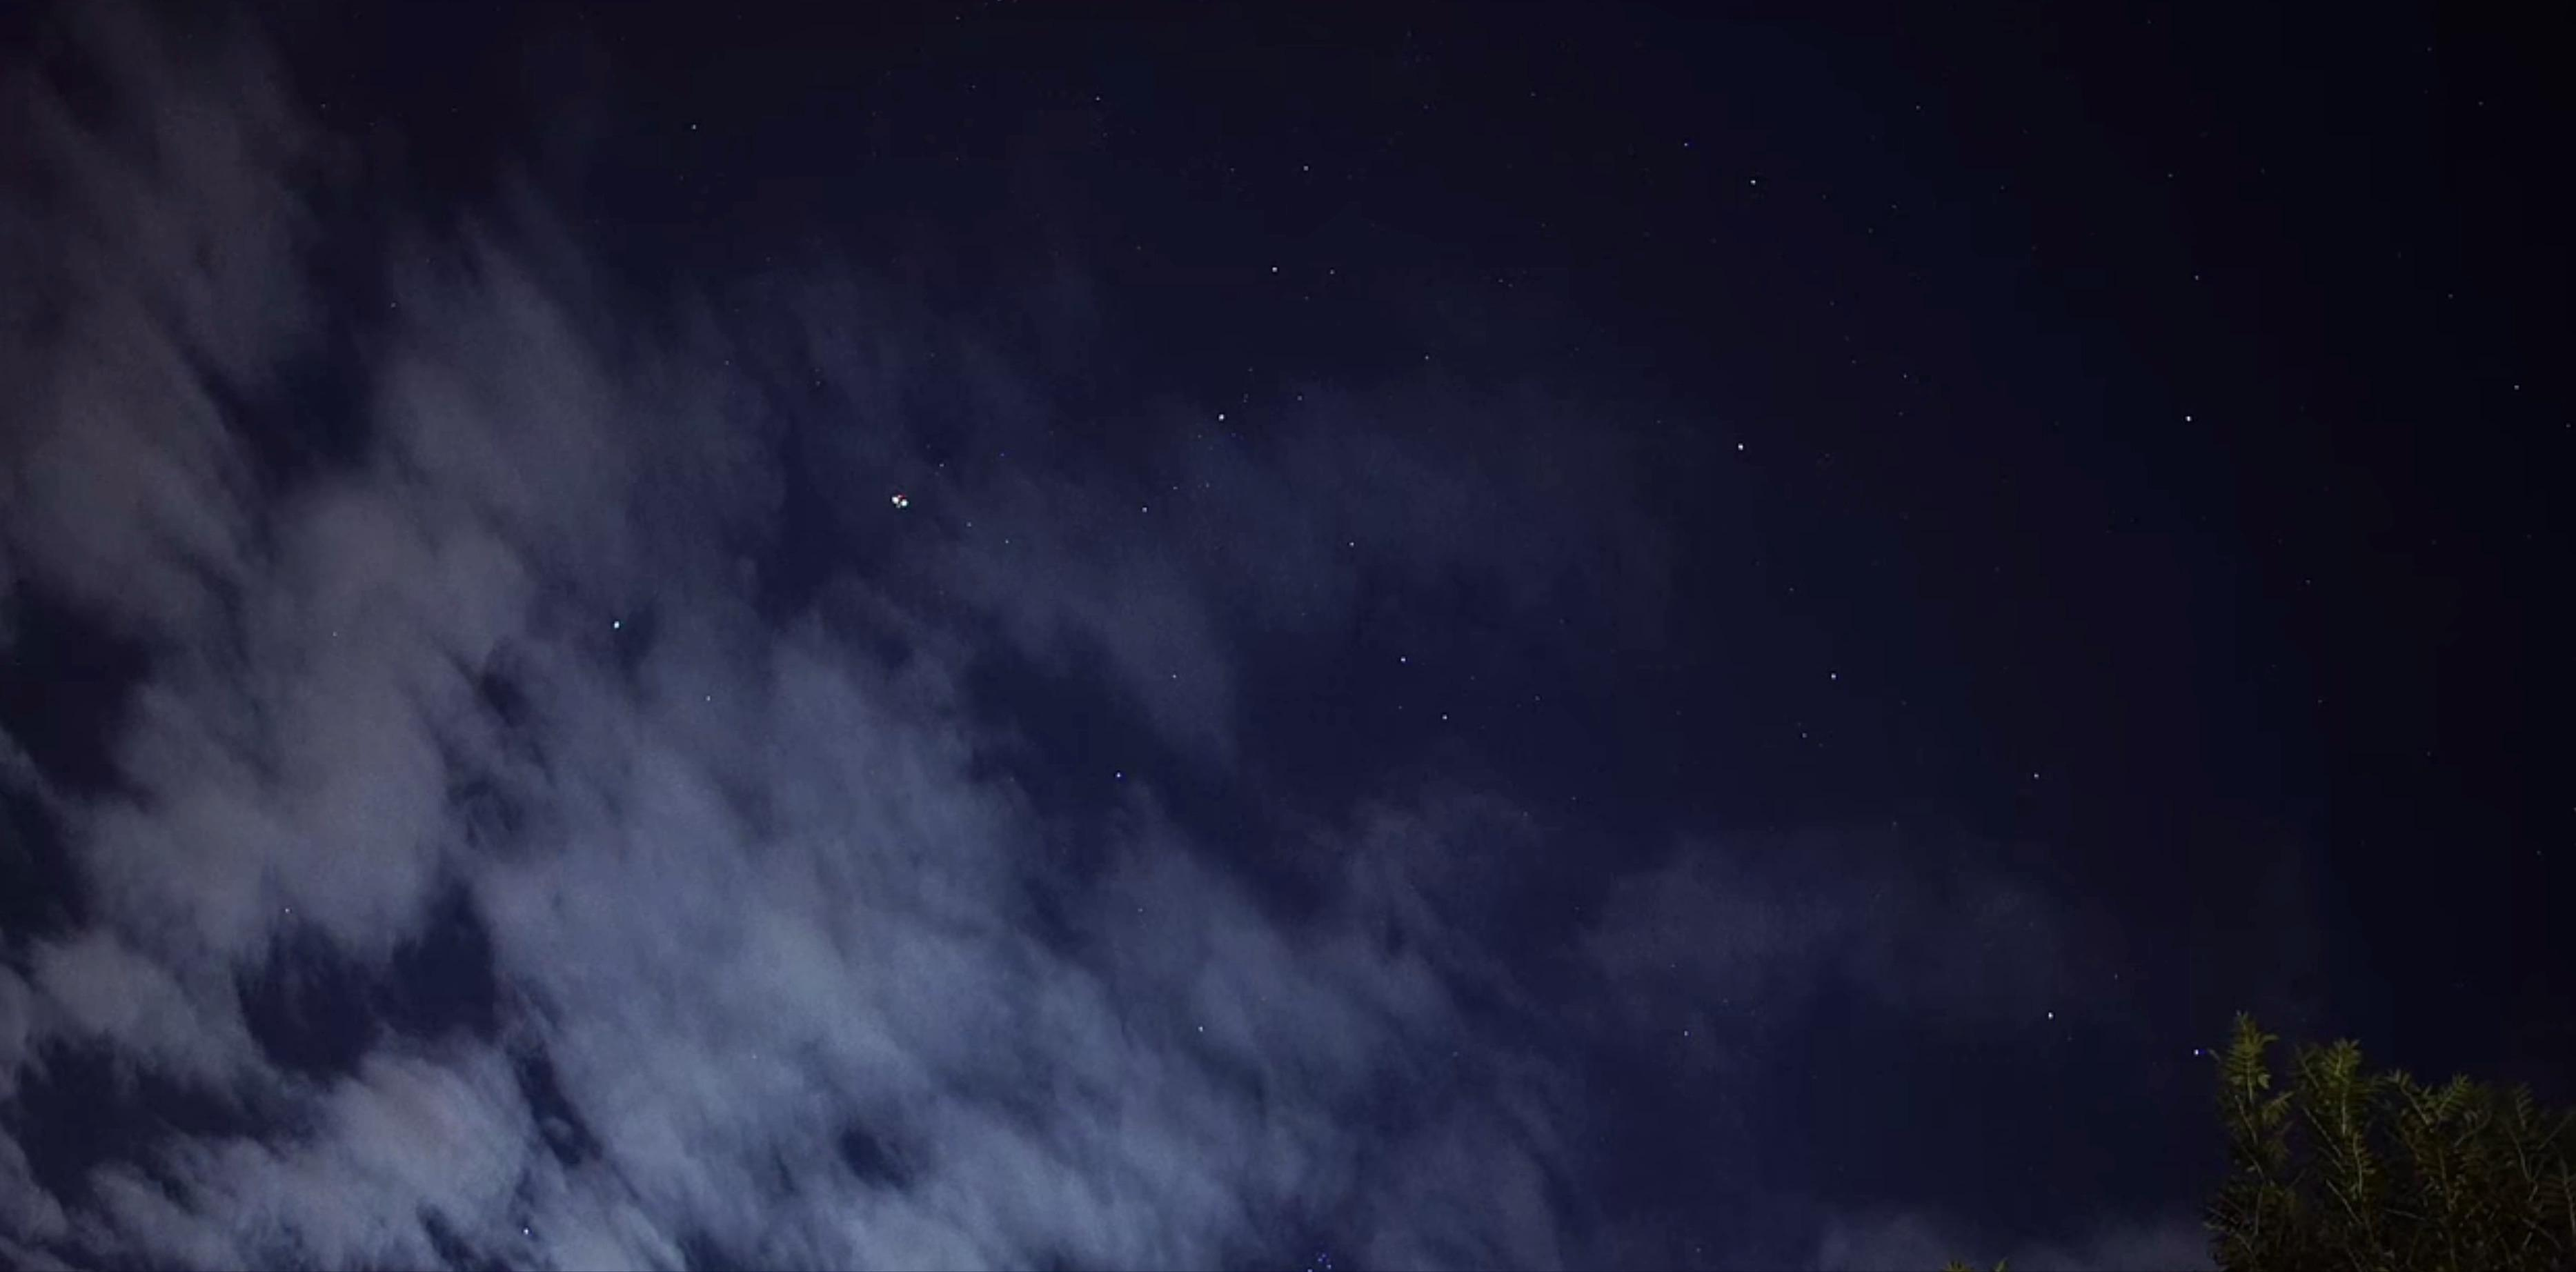Plane: (882, 482, 920, 516)
